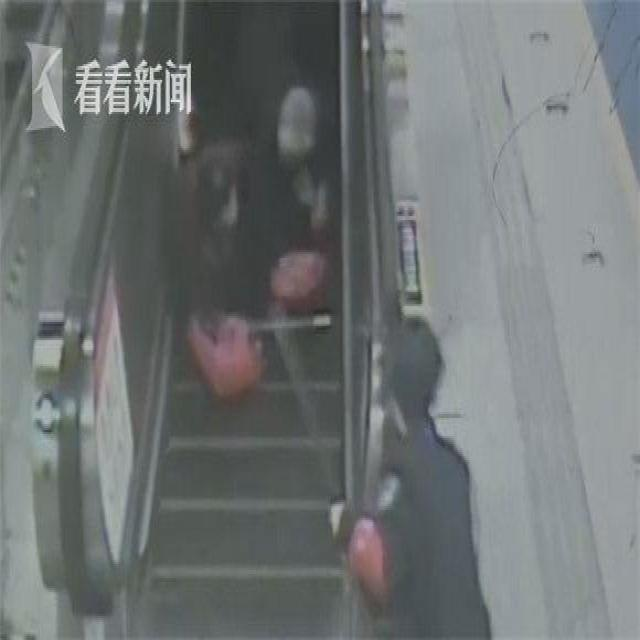fall: (237, 3, 332, 250), (173, 120, 252, 330)
nonfall: (330, 314, 489, 640)
